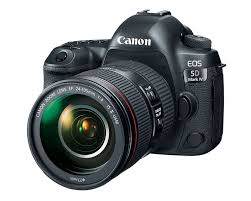camera: (33, 31, 223, 185)
